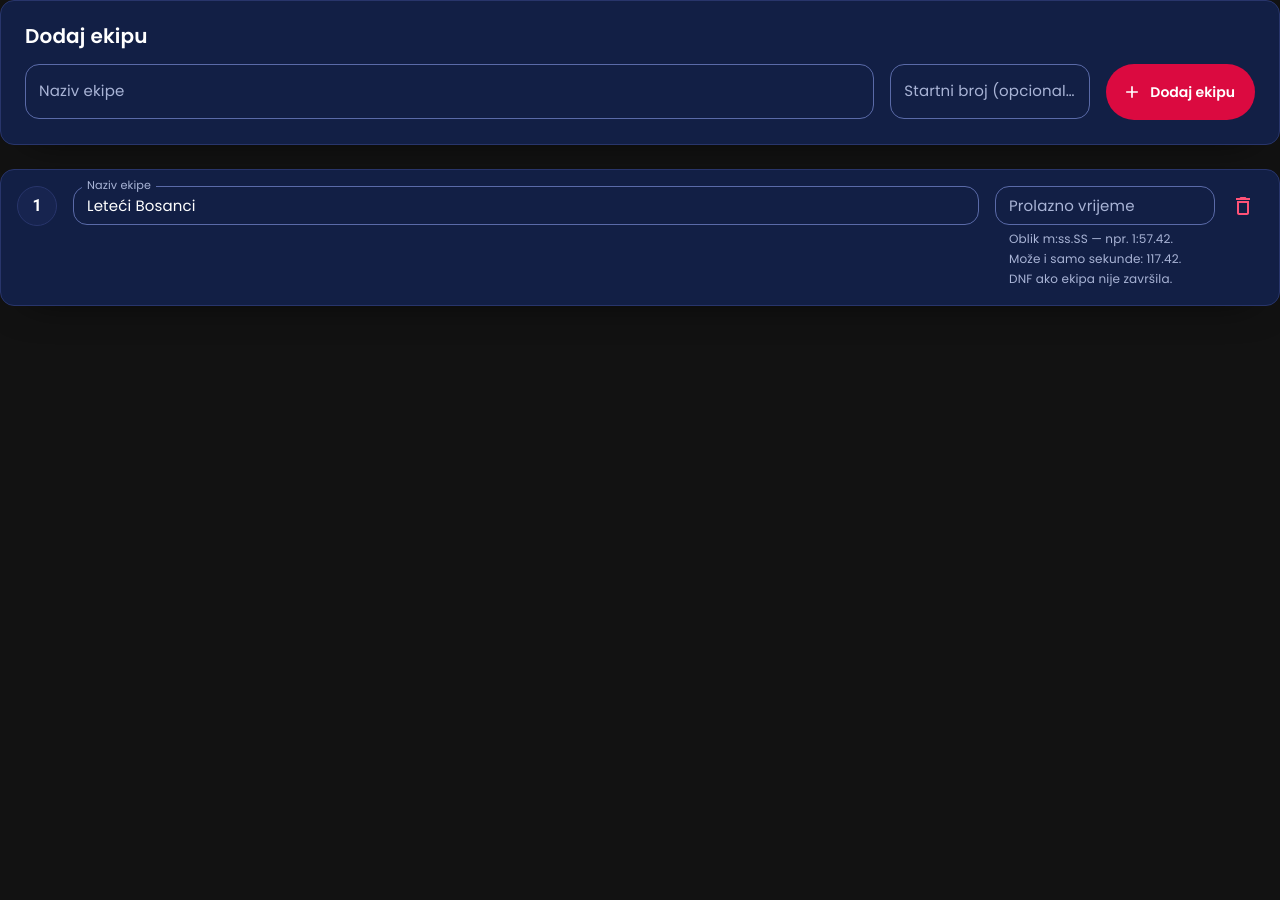
TeamsTab › backs out of a delete without touching the team
Expected: the field showing "Leteći Bosanci" in the row of "Prolazno vrijeme" is shown, [73, 186, 979, 225]
What coordinates should you click on to do the following:
click the button named "Obrisati ekipu? Leteći Bosanci"
I would click on:
 (1243, 206)
Its box is [1223, 186, 1263, 226].
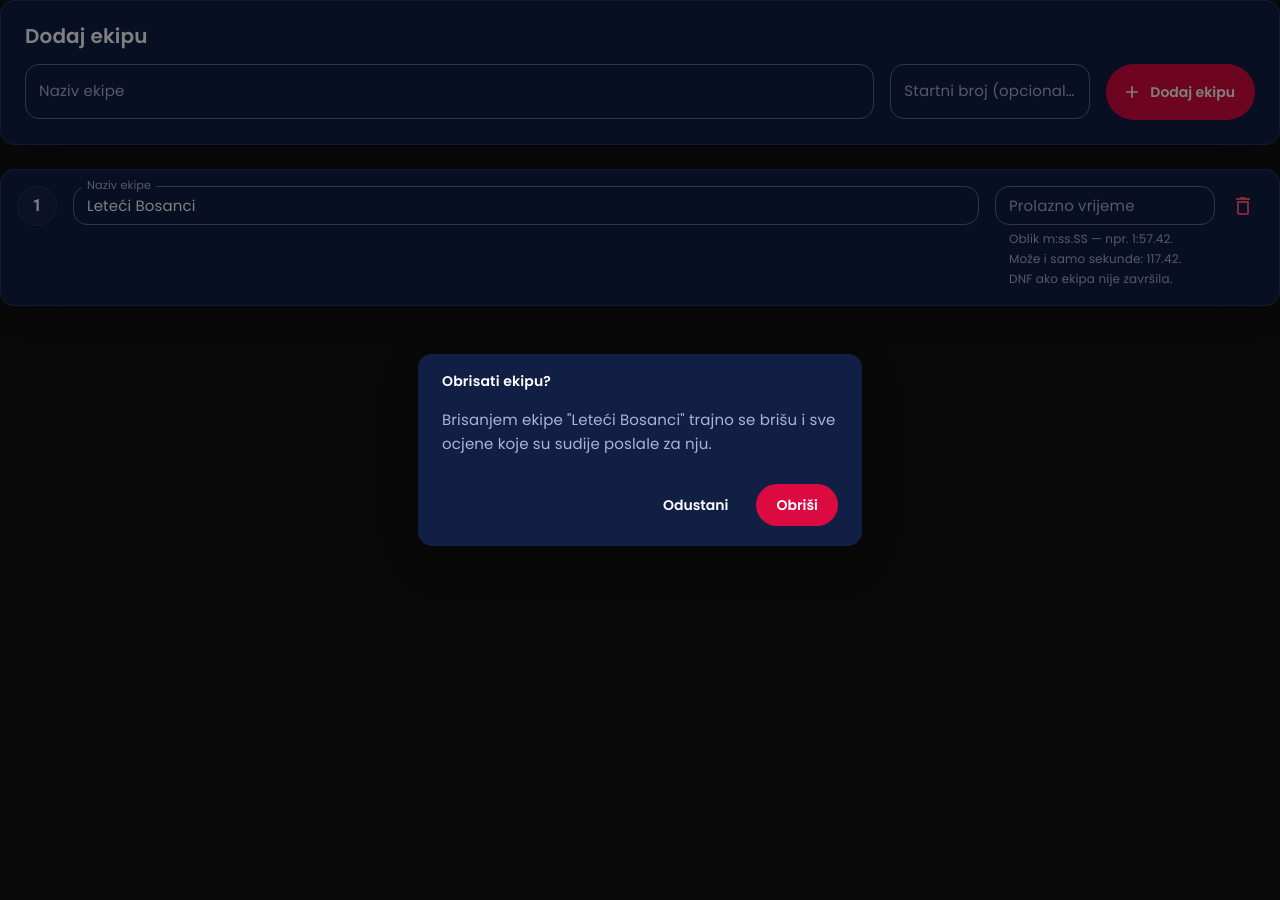
What coordinates should you click on to do the following:
click the button "Odustani"
I would click on:
 (696, 505)
Its box is [643, 484, 748, 526].
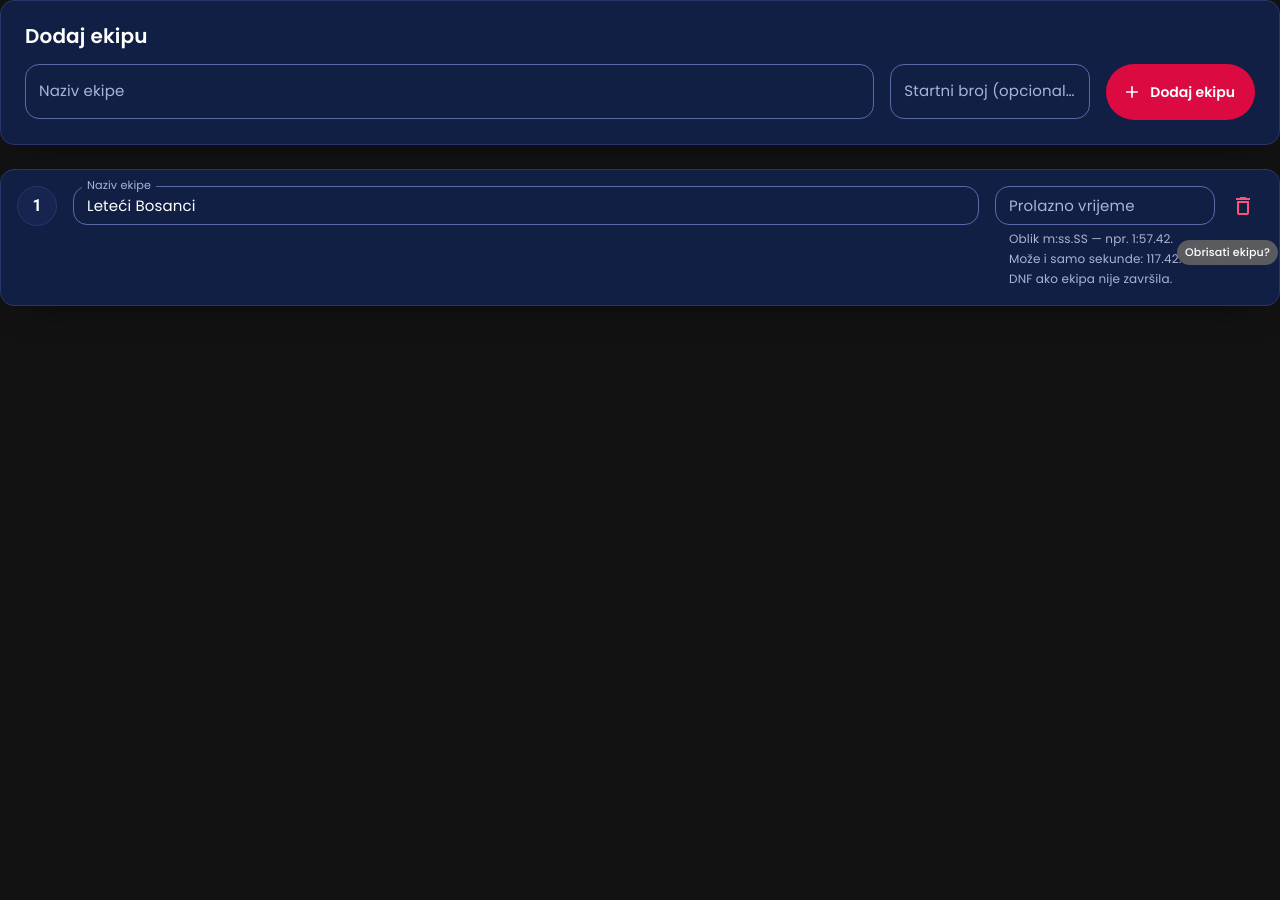
Result: the dialog is gone
